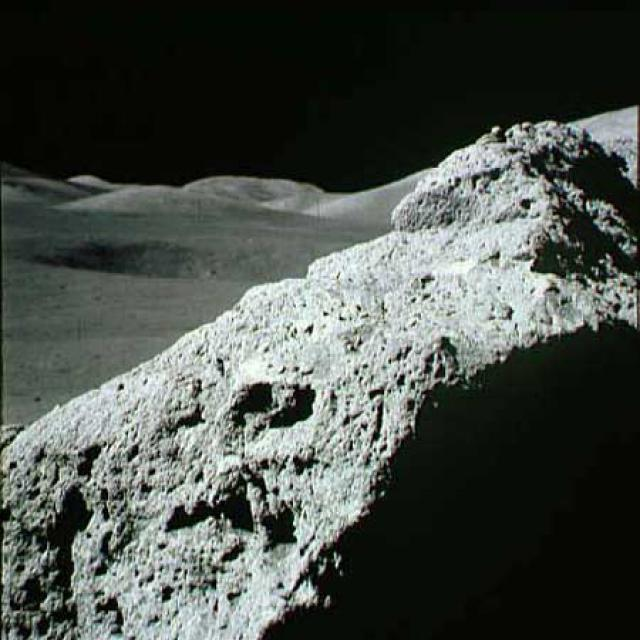crater: (28, 229, 333, 283)
rock: (0, 114, 639, 638)
